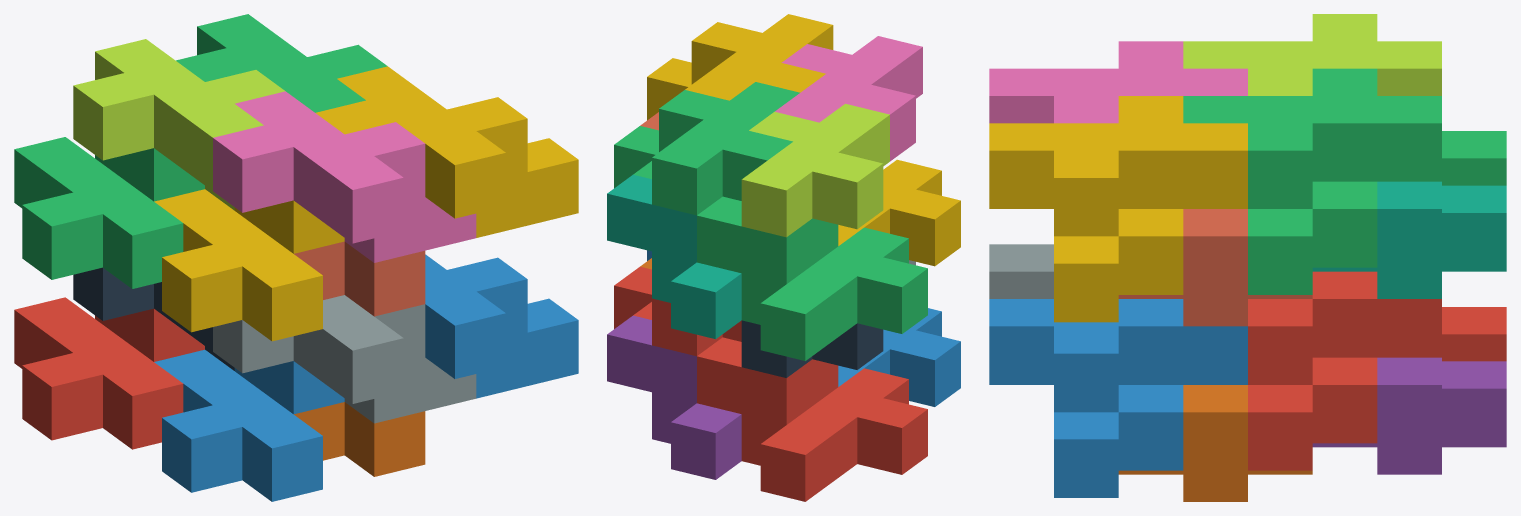
File: tiling.obj
3 views of the same model, side by side, from view 1: azimuth 30°, elevation 25°; view 2: azimuth 150°, elevation 25°; view 3: azimuth 270°, elevation 25° (orthographic). The views are drawn at different scales.
Parts seen in each view (by area): view 1: copy_2_domain_4, copy_2_domain_8, copy_1_domain_1, copy_1_domain_3, copy_1_domain_4, copy_1_domain_2, copy_2_domain_3, copy_2_domain_2, copy_2_domain_6, copy_2_domain_7, copy_1_domain_8, copy_1_domain_6 (+1 smaller); view 2: copy_1_domain_1, copy_1_domain_3, copy_2_domain_3, copy_2_domain_7, copy_1_domain_5, copy_1_domain_7, copy_2_domain_8, copy_2_domain_4, copy_1_domain_4, copy_1_domain_2, copy_2_domain_1, copy_2_domain_5; view 3: copy_2_domain_8, copy_2_domain_7, copy_2_domain_6, copy_2_domain_5, copy_1_domain_5, copy_1_domain_7, copy_2_domain_4, copy_2_domain_3, copy_1_domain_6, copy_1_domain_8, copy_1_domain_1, copy_1_domain_3 (+1 smaller).
Part boxes in pixels (left/top/right/bottom): copy_2_domain_4: left=213, top=91, right=476, bottom=262; copy_2_domain_8: left=315, top=66, right=578, bottom=237; copy_1_domain_1: left=14, top=297, right=204, bottom=449; copy_1_domain_3: left=14, top=137, right=204, bottom=288; copy_1_domain_4: left=154, top=189, right=344, bottom=341; copy_1_domain_2: left=154, top=349, right=344, bottom=501; copy_2_domain_3: left=73, top=39, right=285, bottom=210; copy_2_domain_2: left=213, top=295, right=476, bottom=423; copy_2_domain_6: left=425, top=254, right=578, bottom=398; copy_2_domain_7: left=176, top=14, right=387, bottom=112; copy_1_domain_8: left=294, top=241, right=425, bottom=316; copy_1_domain_6: left=294, top=402, right=425, bottom=476; copy_1_domain_1: left=697, top=337, right=927, bottom=501; copy_1_domain_3: left=697, top=196, right=927, bottom=360; copy_2_domain_3: left=741, top=103, right=889, bottom=237; copy_2_domain_7: left=614, top=82, right=799, bottom=215; copy_1_domain_5: left=607, top=315, right=741, bottom=479; copy_1_domain_7: left=607, top=174, right=741, bottom=339; copy_2_domain_8: left=647, top=14, right=833, bottom=120; copy_2_domain_4: left=775, top=36, right=922, bottom=161; copy_1_domain_4: left=838, top=159, right=960, bottom=266; copy_1_domain_2: left=838, top=308, right=960, bottom=406; copy_2_domain_1: left=741, top=320, right=883, bottom=377; copy_2_domain_5: left=614, top=266, right=741, bottom=356; copy_2_domain_8: left=989, top=96, right=1247, bottom=322; copy_2_domain_7: left=1183, top=68, right=1441, bottom=294; copy_2_domain_6: left=989, top=299, right=1247, bottom=497; copy_2_domain_5: left=1248, top=271, right=1441, bottom=470; copy_1_domain_5: left=1312, top=357, right=1506, bottom=474; copy_1_domain_7: left=1312, top=181, right=1506, bottom=298; copy_2_domain_4: left=989, top=41, right=1247, bottom=123; copy_2_domain_3: left=1183, top=14, right=1441, bottom=95; copy_1_domain_6: left=1118, top=385, right=1312, bottom=501; copy_1_domain_8: left=1118, top=209, right=1312, bottom=326; copy_1_domain_1: left=1442, top=307, right=1506, bottom=361; copy_1_domain_3: left=1442, top=131, right=1506, bottom=185.
Size of the model in its own units: 8 by 6 by 8.
